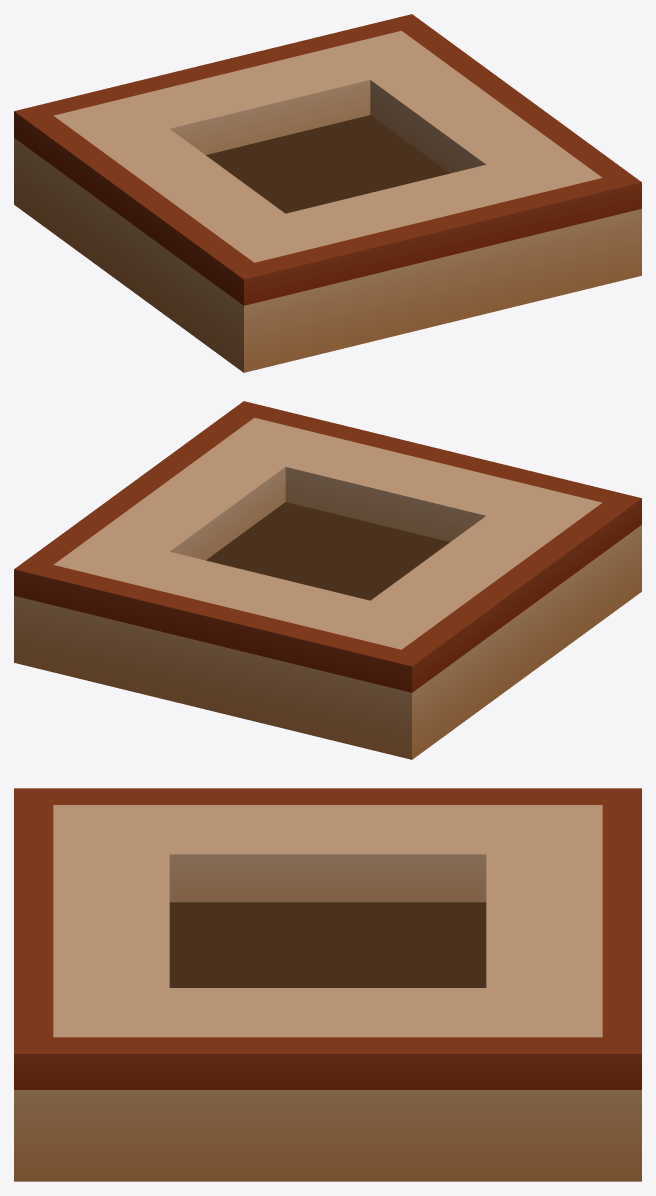
File: Square_Holder_Empty.fbx
The picture shows the model from 3 angles, top to bottom: view 1: azimuth 30°, elevation 25°; view 2: azimuth 150°, elevation 25°; view 3: azimuth 270°, elevation 25°; orthographic projection. The views are drawn at different scales.
Parts seen in each view (by area): view 1: Square_Holder_Empty; view 2: Square_Holder_Empty; view 3: Square_Holder_Empty.
Boxes of the visible parts, box(x1,y1,x2,y2) form: Square_Holder_Empty: box(14, 14, 641, 372); Square_Holder_Empty: box(14, 401, 641, 759); Square_Holder_Empty: box(14, 788, 641, 1181).
Size of the model in its own units: 431 by 96.7 by 431.
